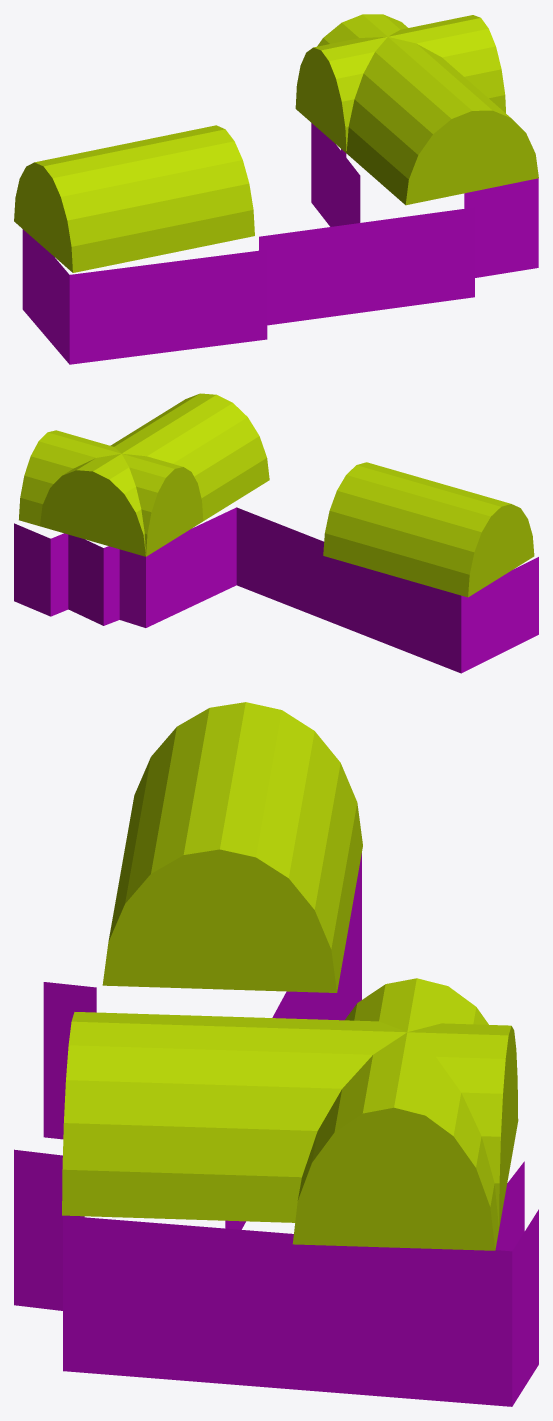
3 renders of one model, top to bottom at view 1: azimuth 30°, elevation 25°; view 2: azimuth 150°, elevation 25°; view 3: azimuth 270°, elevation 25°, orthographic. The views are drawn at different scales.
Visible parts, largest first — view 1: sc_48; view 2: sc_48; view 3: sc_48.
Part boxes in pixels (x1,y1,x2,y2): sc_48: [14, 14, 538, 364]; sc_48: [14, 393, 538, 673]; sc_48: [14, 702, 538, 1406].
Size of the model in its own units: 16.6 by 5.49 by 8.84.
